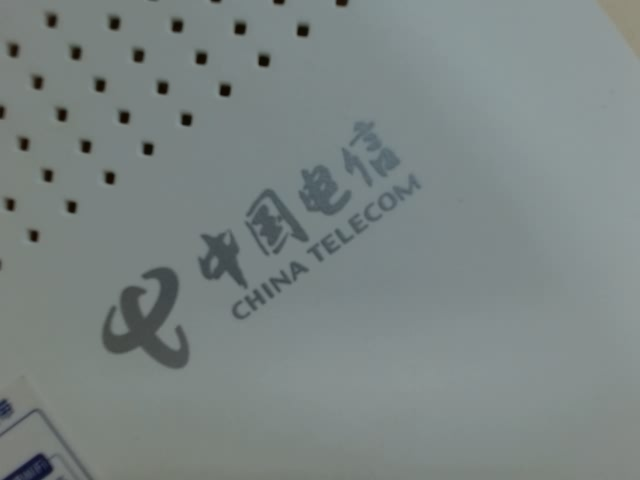AB_ChinaTelecom: (76, 114, 438, 385)
